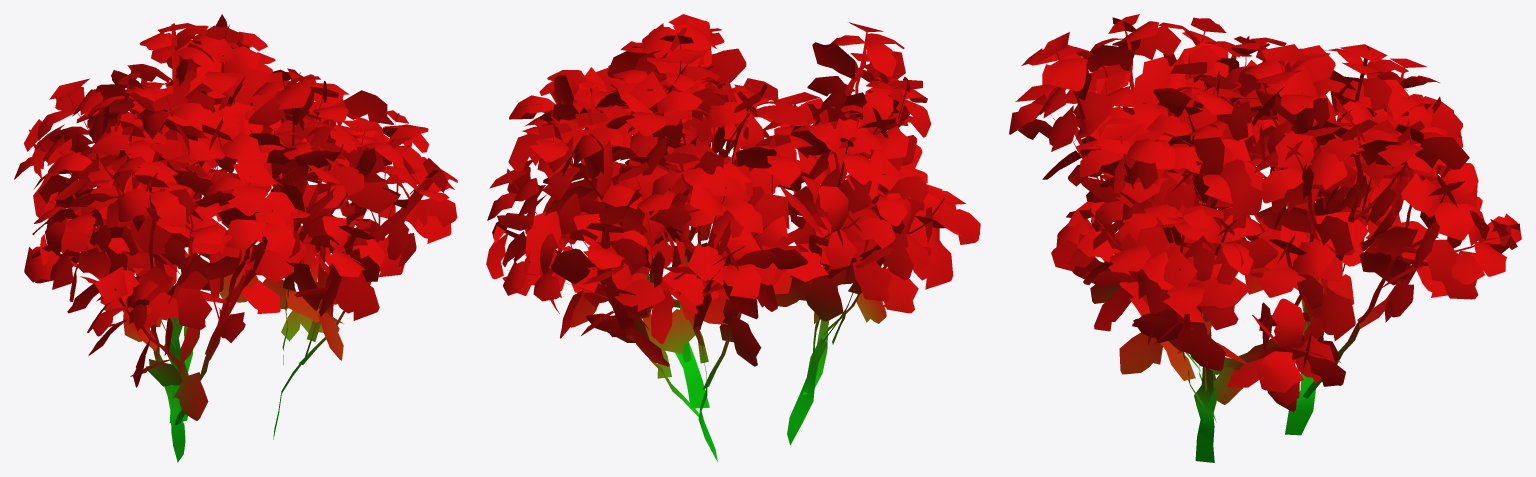
Rendered from Rose Hip_LOD4_Var3.fbx.
The picture shows the model from 3 angles, left to right: view 1: azimuth 30°, elevation 25°; view 2: azimuth 150°, elevation 25°; view 3: azimuth 270°, elevation 25°; orthographic projection. The views are drawn at different scales.
Parts seen in each view (by area): view 1: _vcro_Var3_LOD4; view 2: _vcro_Var3_LOD4; view 3: _vcro_Var3_LOD4.
Boxes of the visible parts, x1=… form: _vcro_Var3_LOD4: x1=14, y1=14, x2=457, y2=462; _vcro_Var3_LOD4: x1=486, y1=14, x2=980, y2=462; _vcro_Var3_LOD4: x1=1009, y1=14, x2=1521, y2=462.
Size of the model in its own units: 156 by 138 by 154.
